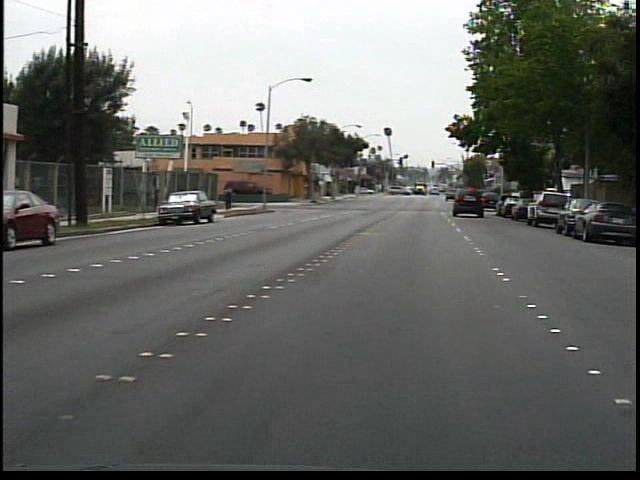person: (227, 181, 243, 214)
